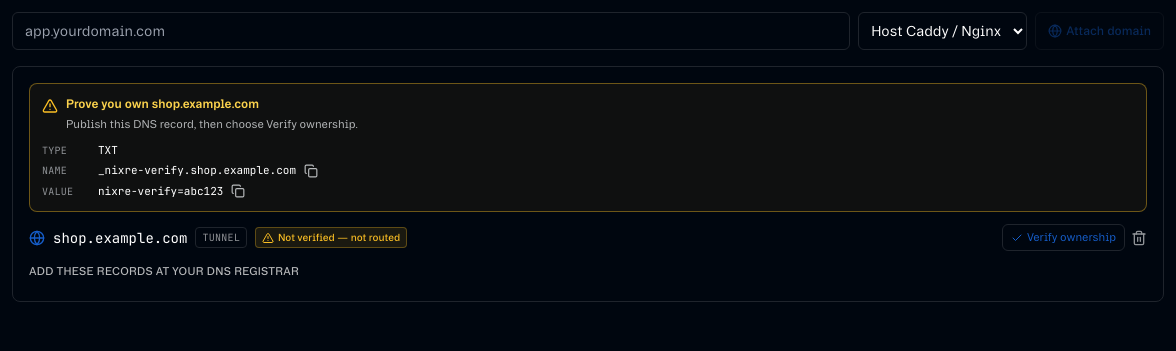
Test: domain ownership gate › surfaces the server message when verification fails
Click the button with test id "domain-verify".
click(1063, 238)  # box [1002,224,1125,251]
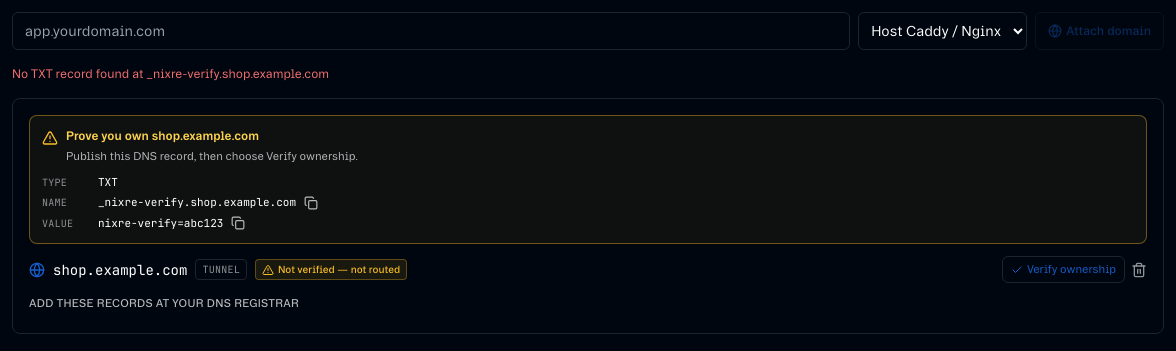
Result: the text "No TXT record found at _nixre-verify.shop.example.com" is shown at [12,67,329,80]
